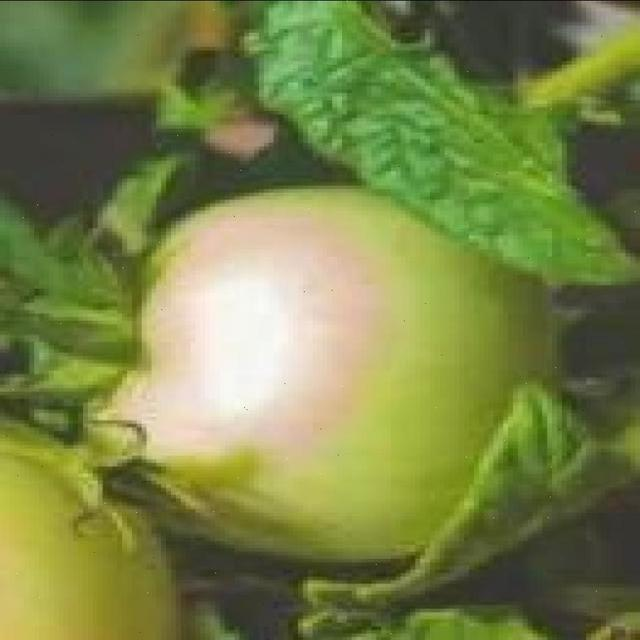Sunscald Fruit: (70, 140, 259, 311)
